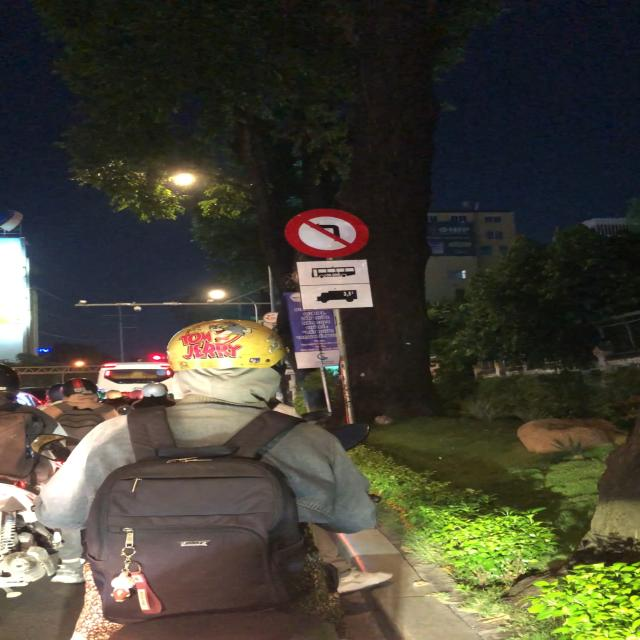Bien bao cam re trai: (283, 207, 372, 260)
